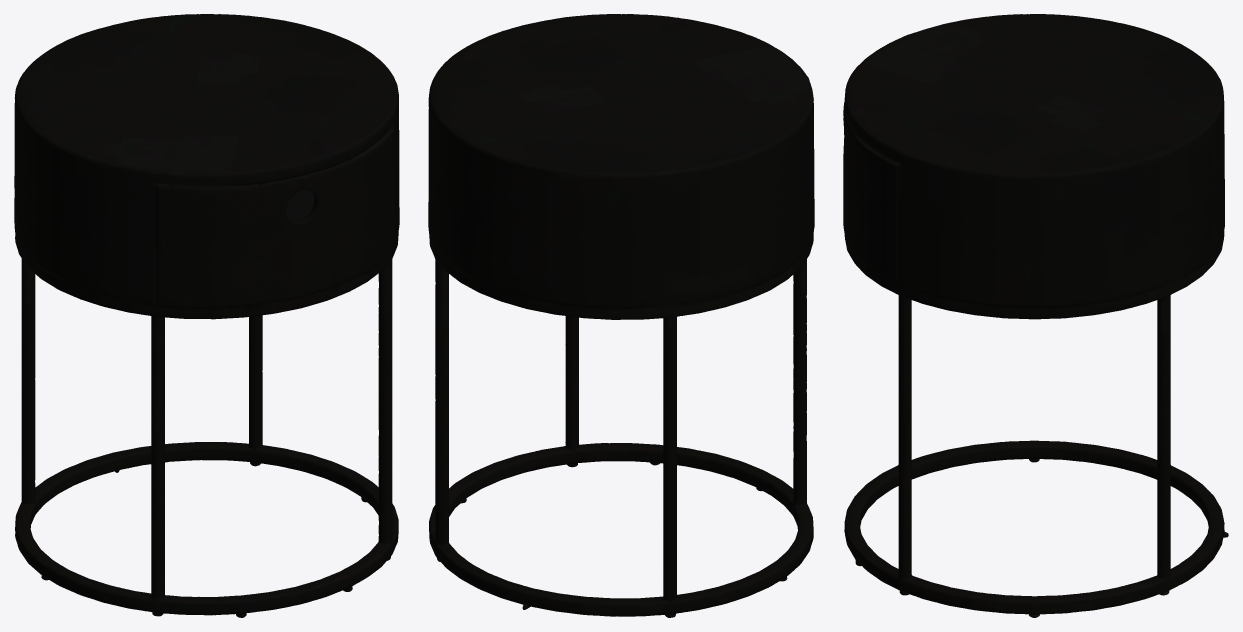
The model's file is hugge-90315-trellis2-q8-pbr.glb.
3 renders of one model, left to right at view 1: azimuth 30°, elevation 25°; view 2: azimuth 150°, elevation 25°; view 3: azimuth 270°, elevation 25°, orthographic.
Parts seen in each view (by area): view 1: 0; view 2: 0; view 3: 0.
Boxes of the visible parts, bbox=[...] form: 0: bbox=[14, 14, 399, 617]; 0: bbox=[428, 14, 814, 617]; 0: bbox=[843, 14, 1228, 617].
Size of the model in its own units: 0.4 by 0.51 by 0.4.
Materials: 1 (1 with a texture image).
